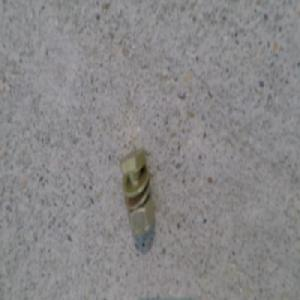BoltNutSet: (122, 148, 157, 233)
